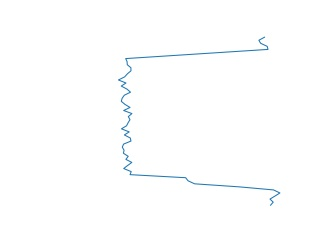distributaryChannelFill: (117, 35, 284, 209)
